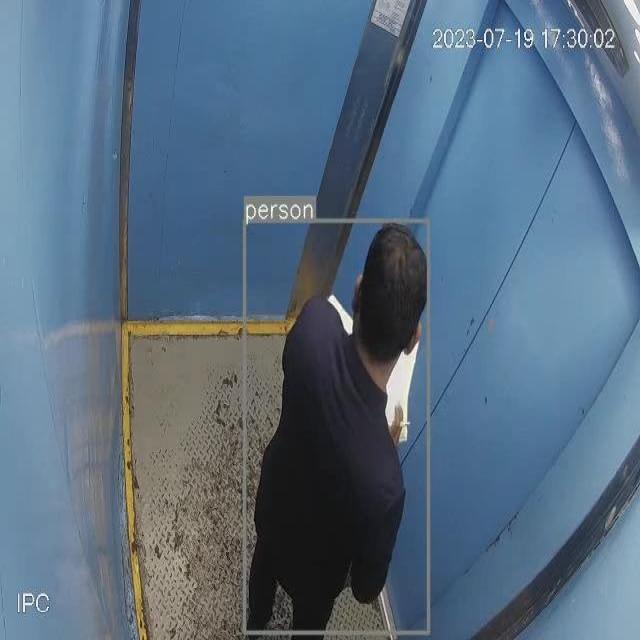person: (245, 217, 427, 635)
